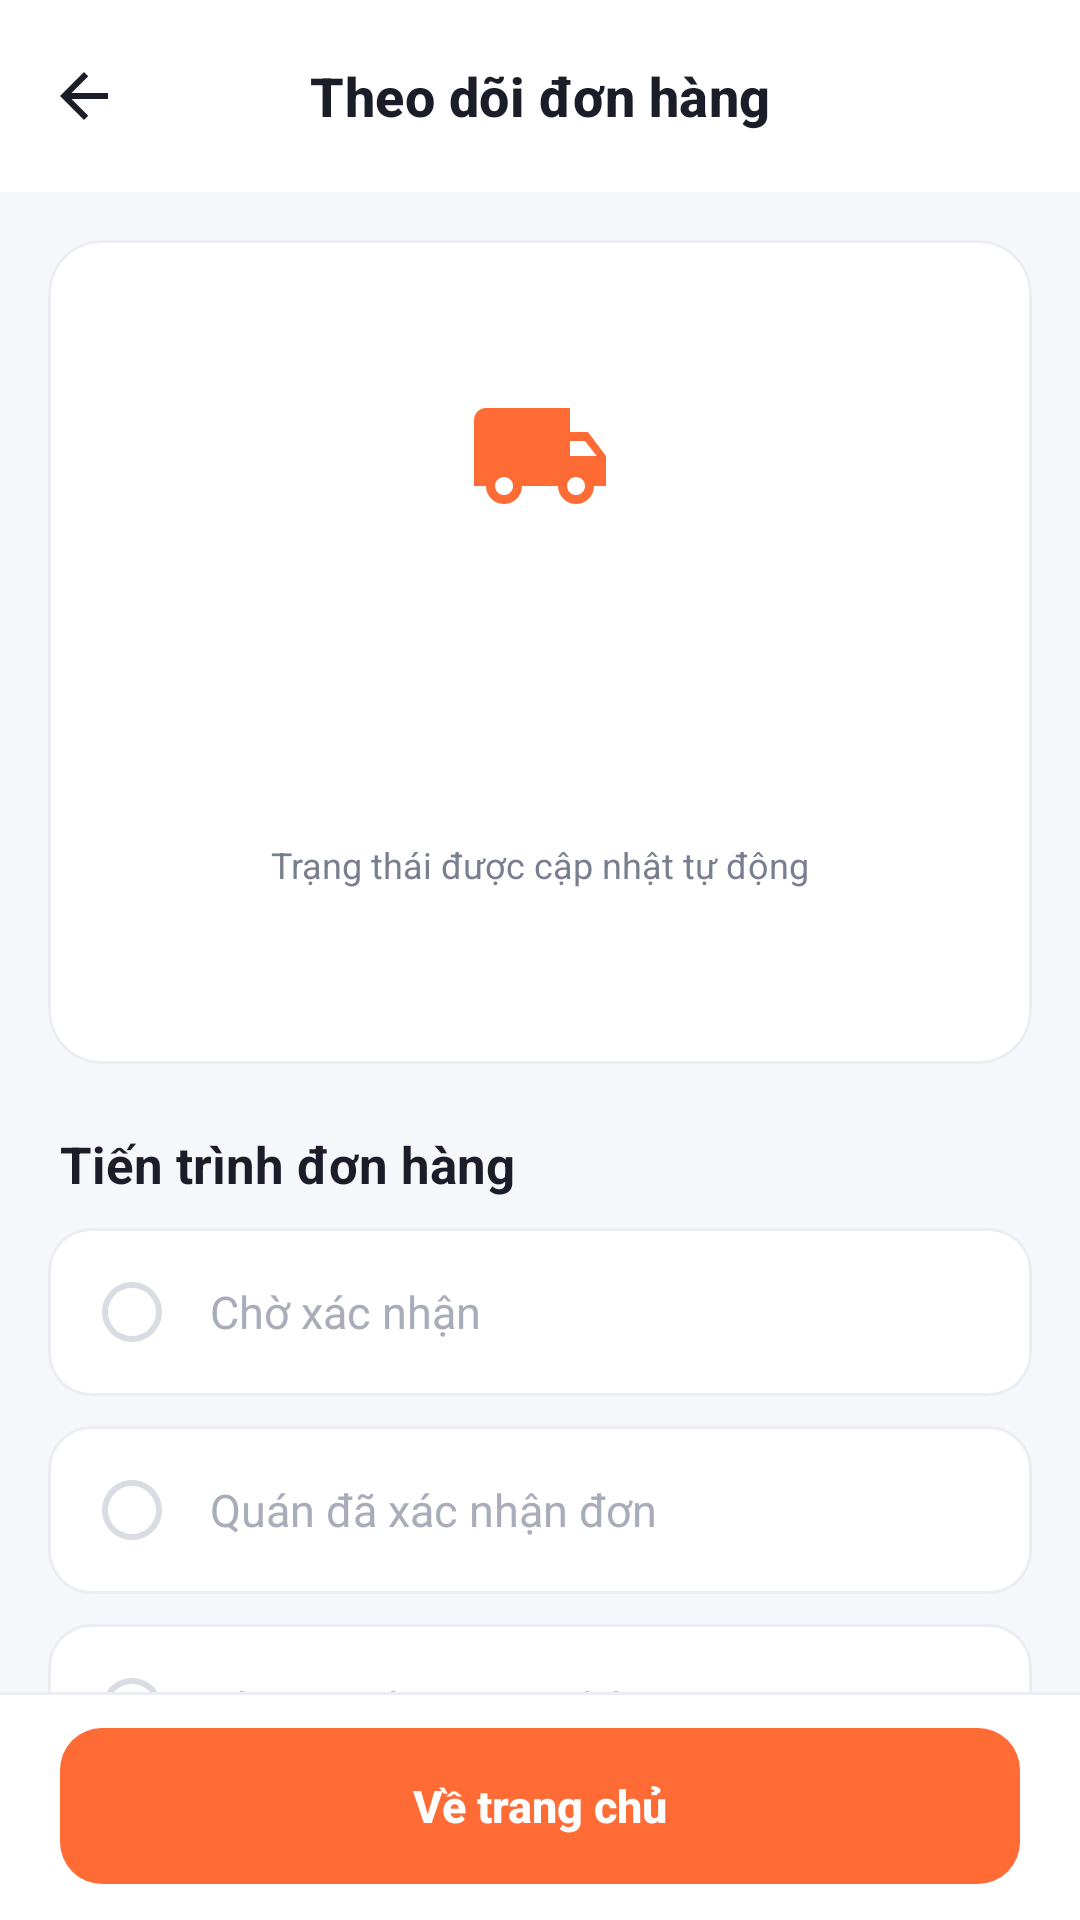

Named icons in this screenshot (1080×1920) and their centers, [x,y]:
truck: [540,456]
